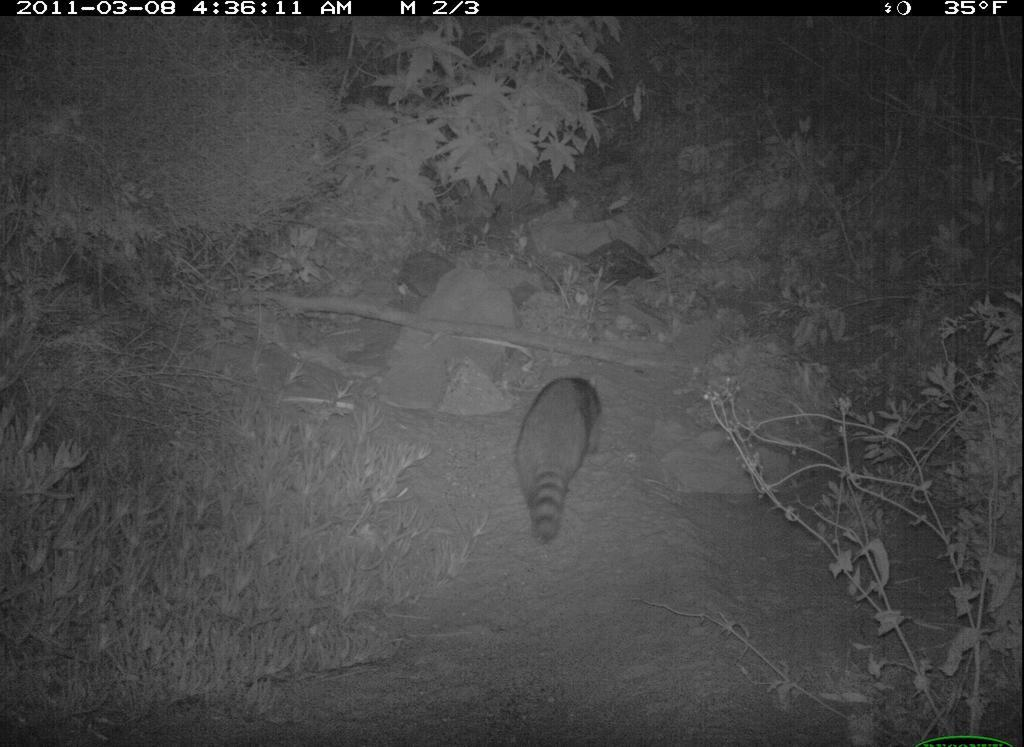raccoon: (502, 360, 611, 548)
